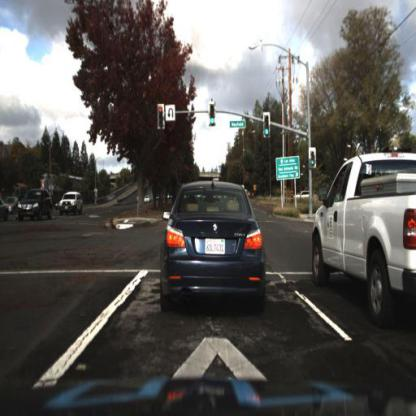car: (306, 152, 415, 314), (159, 180, 270, 315), (15, 188, 53, 223), (59, 191, 83, 219), (295, 189, 318, 205), (51, 197, 63, 211), (1, 202, 7, 228)
trafficLight-Green: (263, 110, 274, 141), (309, 146, 319, 175), (209, 104, 218, 130), (310, 148, 318, 169)
trafficLight-RedLeft: (154, 102, 164, 136), (158, 103, 166, 129)
